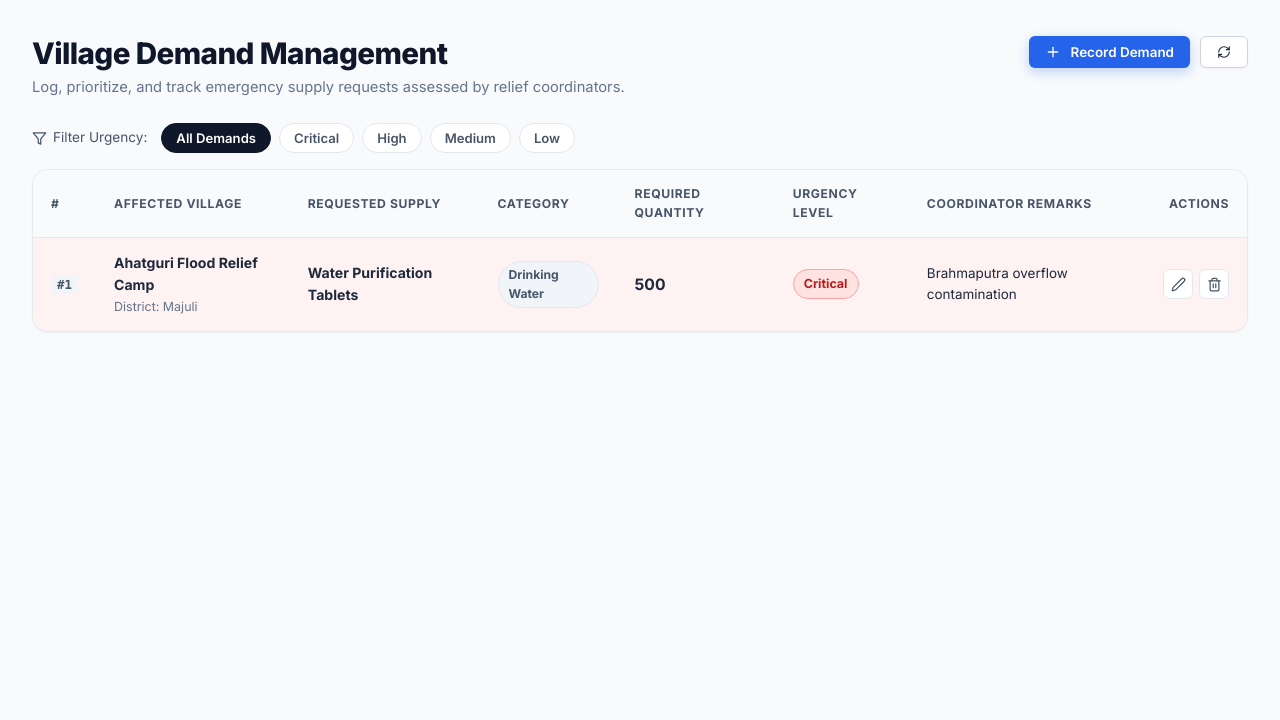
Test: Demand Management (DemandsPage.jsx) › opens Edit Demand modal and populates existing record values
Expected: the text "Water Purification Tablets" is shown, [308,264,432,303]
Step 1. Click the button named "Edit" → (1178, 284), box [1163,269,1193,299]
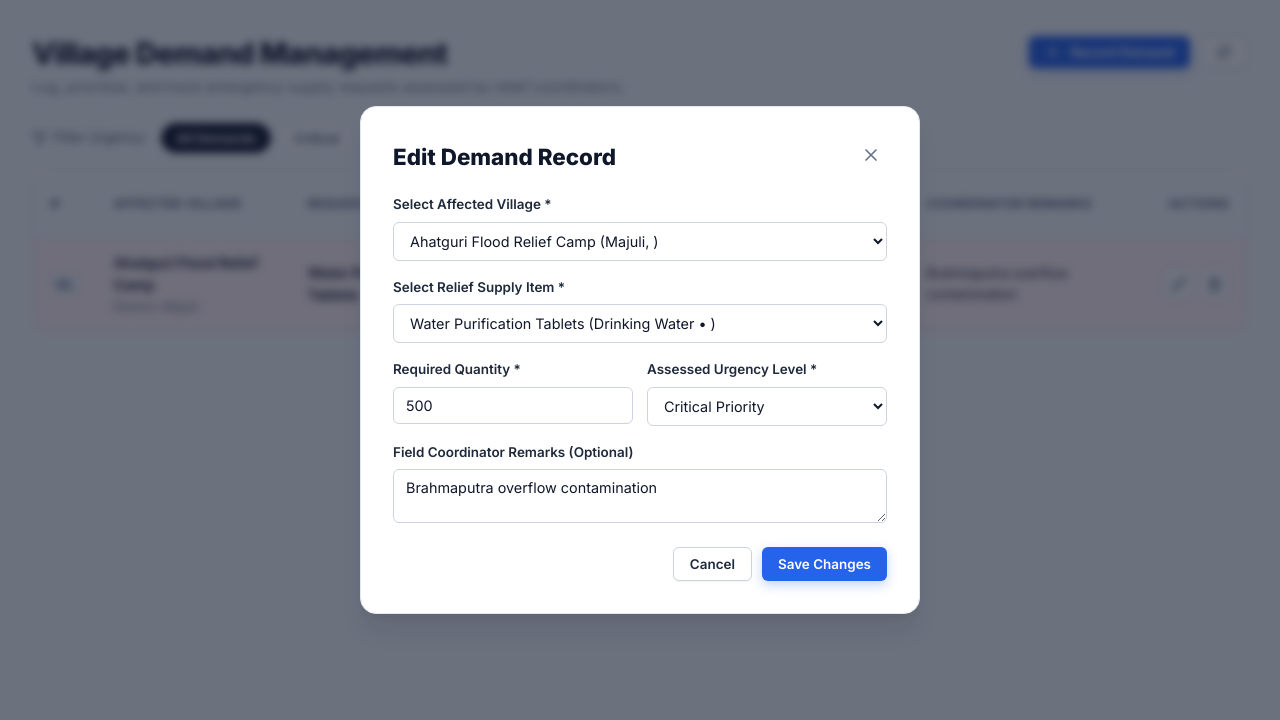
Now the heading "Edit Demand Record" is shown, box [393,139,616,174]
Now the number field showing "500" is shown, box [393,387,633,424]
Now the text box showing "Brahmaputra overflow contamination" is shown, box [393,469,887,523]
